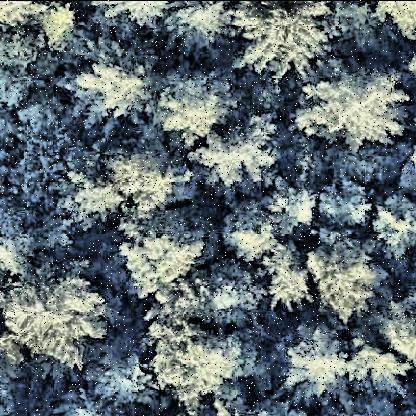tree-top: (1, 256, 111, 376), (299, 50, 405, 157), (231, 2, 335, 82), (146, 324, 246, 404), (191, 109, 285, 188), (113, 215, 205, 293), (71, 45, 157, 123), (165, 257, 269, 321), (308, 238, 382, 318), (58, 151, 126, 231), (104, 144, 178, 214), (156, 75, 229, 142), (283, 326, 351, 397), (347, 336, 411, 397), (369, 186, 416, 264), (262, 245, 313, 315), (318, 170, 374, 231), (166, 3, 230, 53), (266, 174, 320, 233), (377, 289, 416, 366), (91, 2, 181, 30), (227, 206, 277, 254), (362, 1, 416, 45), (43, 1, 84, 46), (1, 2, 45, 31)
